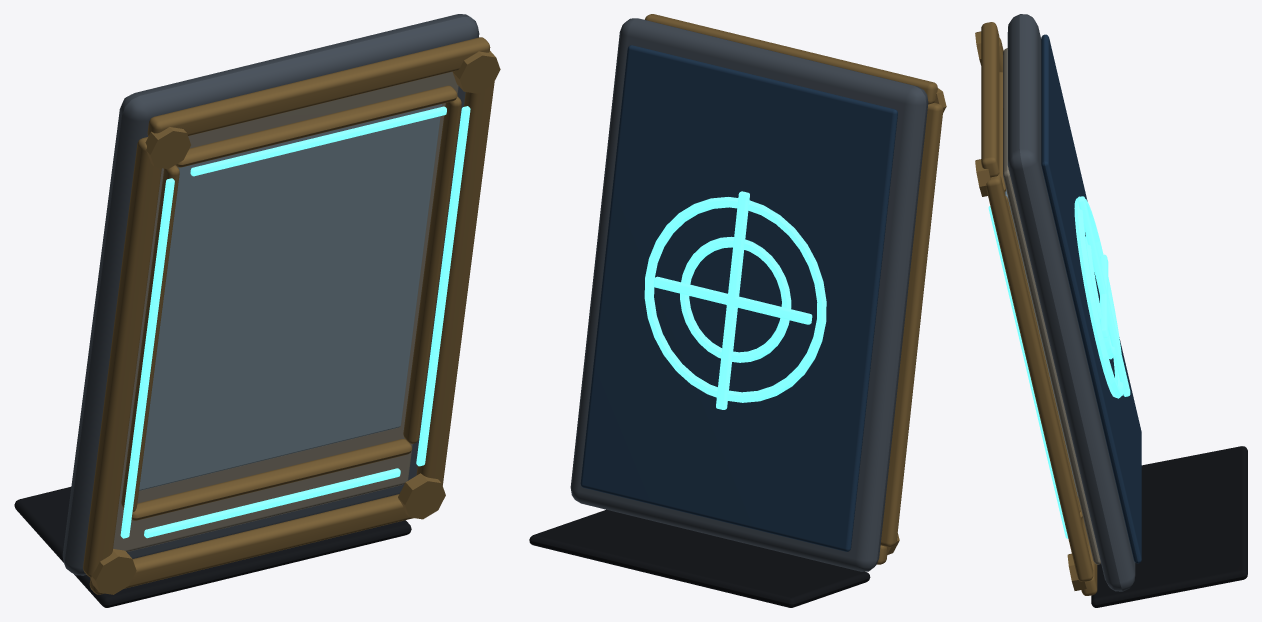
File: Card_Base.fbx
3 views of the same model, side by side, from view 1: azimuth 30°, elevation 25°; view 2: azimuth 150°, elevation 25°; view 3: azimuth 270°, elevation 25° (orthographic). The views are drawn at different scales.
Visible parts, largest first — view 1: Artwork, CardBody, FrontPaper, FrameLeft, FrameTop, FrameRight, FrameBottom, ContactShadow, InnerRight, InnerBottom, InnerTop, GlowSide.001 (+8 smaller); view 2: BackPlate, CardBody, ContactShadow, FrameLeft, BackRuneRing.001, BackRuneRing, FrameTop, BackRuneVertical, BackRuneHorizontal; view 3: CardBody, ContactShadow, BackPlate, FrameRight, FrontPaper, FrameTop, BackRuneRing.001, BackRuneVertical, GlowSide.001, InnerRight, BackRuneHorizontal, BackRuneRing (+2 smaller).
Part boxes in pixels (<box>): Artwork: <box>139,104,441,490</box>; CardBody: <box>62,14,479,575</box>; FrontPaper: <box>113,71,458,551</box>; FrameLeft: <box>83,137,161,577</box>; FrameTop: <box>147,37,490,136</box>; FrameRight: <box>416,81,494,485</box>; FrameBottom: <box>89,494,413,594</box>; ContactShadow: <box>14,487,411,607</box>; InnerRight: <box>403,96,461,443</box>; InnerBottom: <box>131,439,411,520</box>; InnerTop: <box>175,85,457,167</box>; GlowSide.001: <box>416,106,470,466</box>; BackPlate: <box>580,45,897,551</box>; CardBody: <box>570,18,928,571</box>; ContactShadow: <box>529,509,870,607</box>; FrameLeft: <box>880,103,943,546</box>; BackRuneRing.001: <box>644,197,826,402</box>; BackRuneRing: <box>680,236,791,362</box>; FrameTop: <box>645,14,937,104</box>; BackRuneVertical: <box>716,191,749,409</box>; BackRuneHorizontal: <box>653,276,812,324</box>; CardBody: <box>1007,14,1135,591</box>; ContactShadow: <box>1091,446,1247,607</box>; BackPlate: <box>1041,34,1141,563</box>; FrameRight: <box>986,174,1093,581</box>; FrontPaper: <box>1003,48,1100,564</box>; FrameTop: <box>981,22,999,177</box>; BackRuneRing.001: <box>1074,196,1124,398</box>; BackRuneVertical: <box>1078,196,1130,396</box>; GlowSide.001: <box>988,206,1068,538</box>; InnerRight: <box>1005,196,1080,512</box>; BackRuneHorizontal: <box>1100,254,1108,338</box>; BackRuneRing: <box>1085,237,1115,359</box>.
Bounding box in the file's own units: 0.78 × 1.15 × 0.6135.
